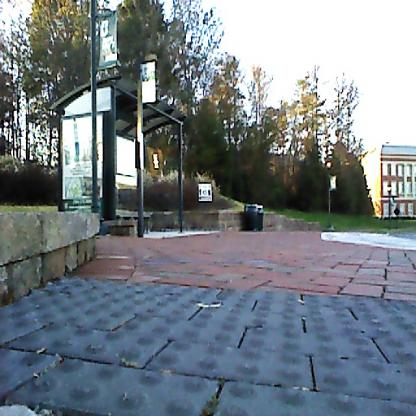Edge: (0, 212, 221, 331)
Sidewalk: (0, 232, 416, 416)
